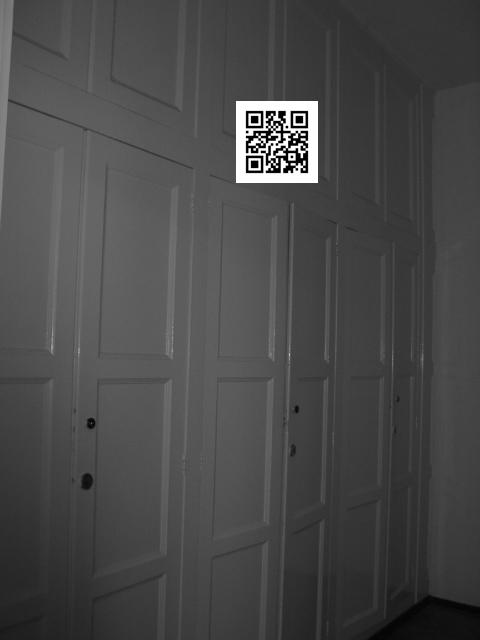qr_code: (235, 100, 319, 181)
